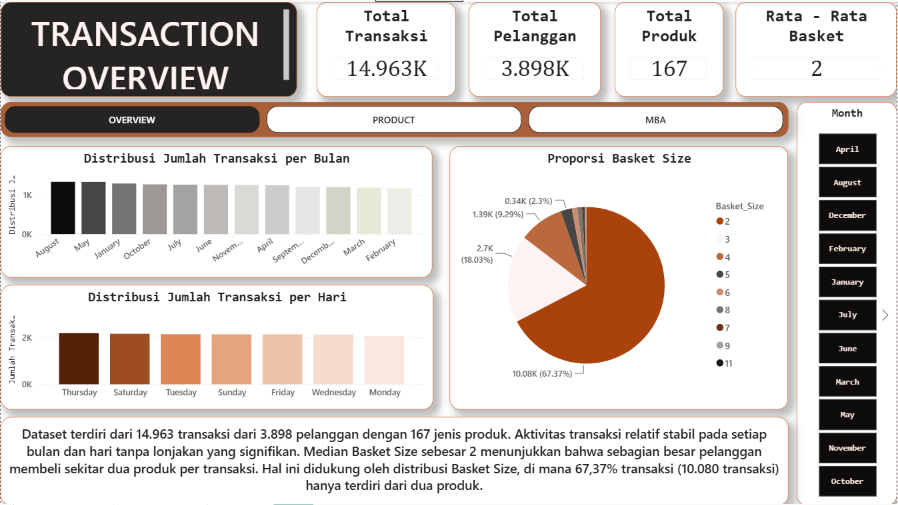

The page's visual inventory and layout, read from the dashboard file:
{"tool":"powerbi","page":{"name":"OVERVIEW","canvas":[1280,720],"ordinal":0},"visuals":[{"type":"cardVisual","title":"Total Transaksi","fields":{"Data":["Count(Sheet1.Transaction_ID)"]},"box":[451.7,0,198.3,135],"z":0},{"type":"cardVisual","title":"Total Pelanggan","fields":{"Data":["Count(Sheet1.Member_number)"]},"box":[668.3,0,188.3,135],"z":1000},{"type":"cardVisual","title":"Total Produk","fields":{"Data":["Count(Sheet1.itemDescription)"]},"box":[876.7,0,155,135],"z":2000},{"type":"cardVisual","title":"Rata - Rata Basket","fields":{"Data":["Median(Sheet1.Basket_Size)"]},"box":[1050,0,230,135],"z":3000},{"type":"clusteredColumnChart","title":"Distribusi Jumlah Transaksi per Bulan","fields":{"Category":["Sheet1.Month"],"Y":["Count(Sheet1.Transaction_ID)"]},"box":[0,205.5,616.4,188.2],"z":4000},{"type":"clusteredColumnChart","title":"Distribusi Jumlah Transaksi per Hari","fields":{"Y":["Count(Sheet1.Transaction_ID)"],"Category":["Sheet1.Day_Name"]},"box":[0,403.6,618.2,178.2],"z":5000},{"type":"pieChart","title":"Proporsi Basket Size","fields":{"Category":["Sheet1.Basket_Size"],"Y":["Count(Sheet1.Transaction_ID)"]},"box":[641.7,205,483.3,376.7],"z":6000},{"type":"textbox","box":[0,0,423.3,135],"z":7000},{"type":"slicer","title":"Month","fields":{"Values":["Sheet1.Month"]},"box":[1136.7,143.3,143.3,576.7],"z":8000},{"type":"textbox","box":[0,593.3,1125,126.7],"z":9000},{"type":"pageNavigator","box":[0,143.3,1125,50],"z":10000}]}

Visuals, with their boxes in screenshot pixels (x1, y1, x2, y2), scaled from the page's 1280x720 canvas onto the 898x505 screenshot:
"Total Transaksi" cardVisual: [x1=317, y1=0, x2=456, y2=95]
"Total Pelanggan" cardVisual: [x1=469, y1=0, x2=601, y2=95]
"Total Produk" cardVisual: [x1=615, y1=0, x2=724, y2=95]
"Rata - Rata Basket" cardVisual: [x1=737, y1=0, x2=897, y2=95]
"Distribusi Jumlah Transaksi per Bulan" clusteredColumnChart: [x1=0, y1=144, x2=432, y2=276]
"Distribusi Jumlah Transaksi per Hari" clusteredColumnChart: [x1=0, y1=283, x2=434, y2=408]
"Proporsi Basket Size" pieChart: [x1=450, y1=144, x2=789, y2=408]
textbox: [x1=0, y1=0, x2=297, y2=95]
"Month" slicer: [x1=797, y1=101, x2=897, y2=504]
textbox: [x1=0, y1=416, x2=789, y2=504]
pageNavigator: [x1=0, y1=101, x2=789, y2=136]
